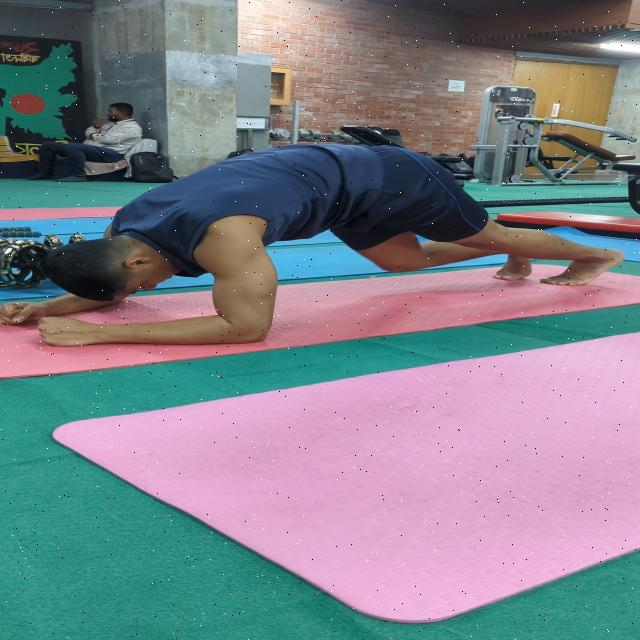Normal_MountainClimbers: (0, 149, 634, 358)
